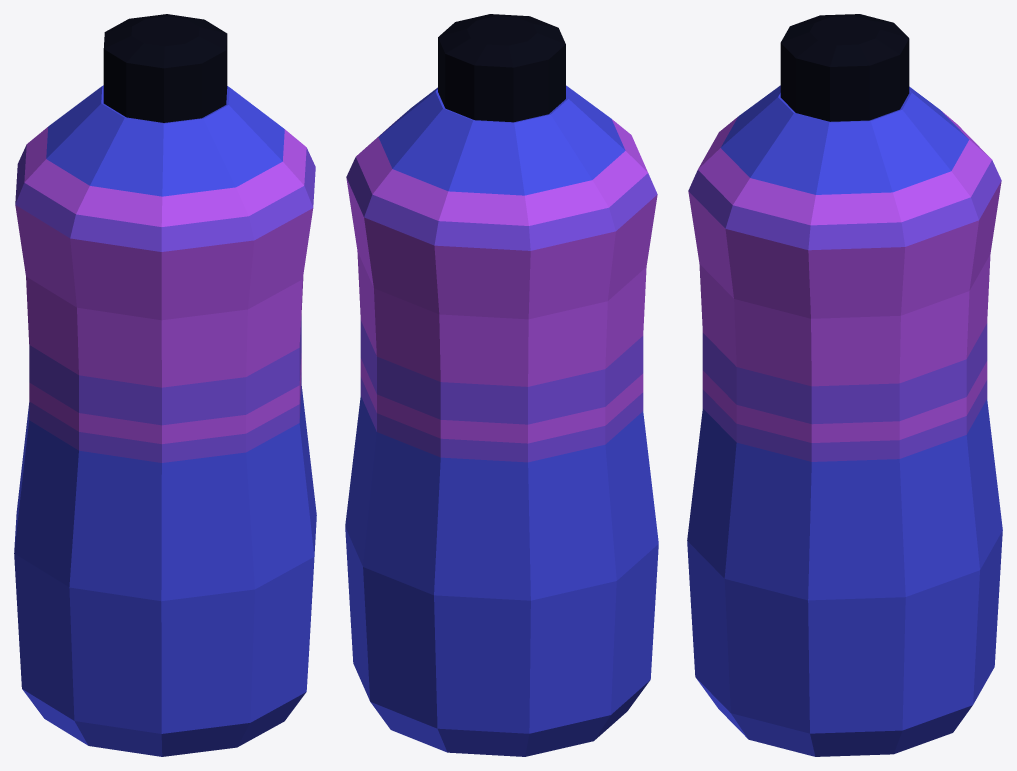
File: Potion.ShinyCoat.fbx
3 views of the same model, side by side, from view 1: azimuth 30°, elevation 25°; view 2: azimuth 150°, elevation 25°; view 3: azimuth 270°, elevation 25° (orthographic).
Parts seen in each view (by area): view 1: Potion.ShinyCoat; view 2: Potion.ShinyCoat; view 3: Potion.ShinyCoat.
Boxes of the visible parts, box(x1,y1,x2,y2) form: Potion.ShinyCoat: box(14, 14, 316, 756); Potion.ShinyCoat: box(345, 14, 658, 756); Potion.ShinyCoat: box(687, 14, 1002, 756).
Size of the model in its own units: 35.27 by 86.9 by 36.15.
